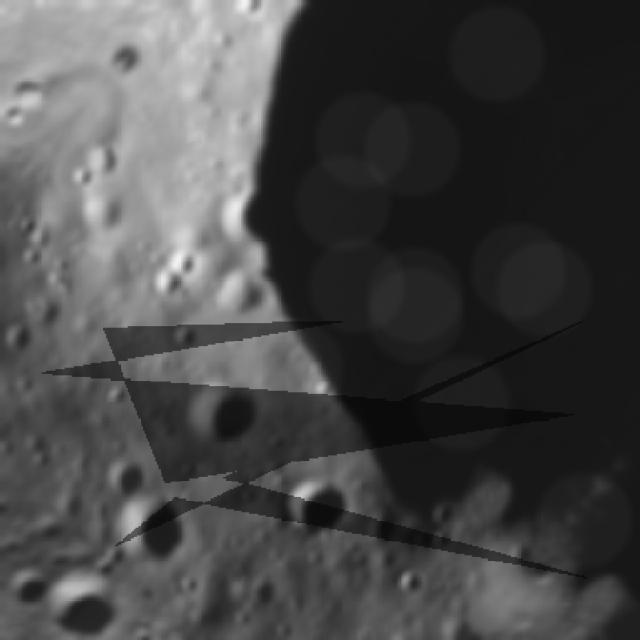crater: (91, 0, 640, 591), (170, 357, 282, 466), (107, 475, 208, 577), (274, 463, 364, 554), (94, 438, 164, 508), (76, 129, 132, 186), (157, 233, 211, 285), (140, 257, 194, 309), (0, 308, 42, 358), (500, 532, 543, 576), (4, 204, 45, 247), (391, 561, 432, 602), (168, 313, 209, 353), (100, 372, 140, 412), (226, 0, 272, 28), (0, 217, 12, 285)
